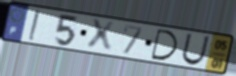5: (52, 13, 81, 48)
7: (121, 24, 144, 56)
D: (150, 28, 180, 63)
I: (27, 9, 41, 43)
U: (180, 32, 211, 67)
X: (86, 18, 117, 54)
